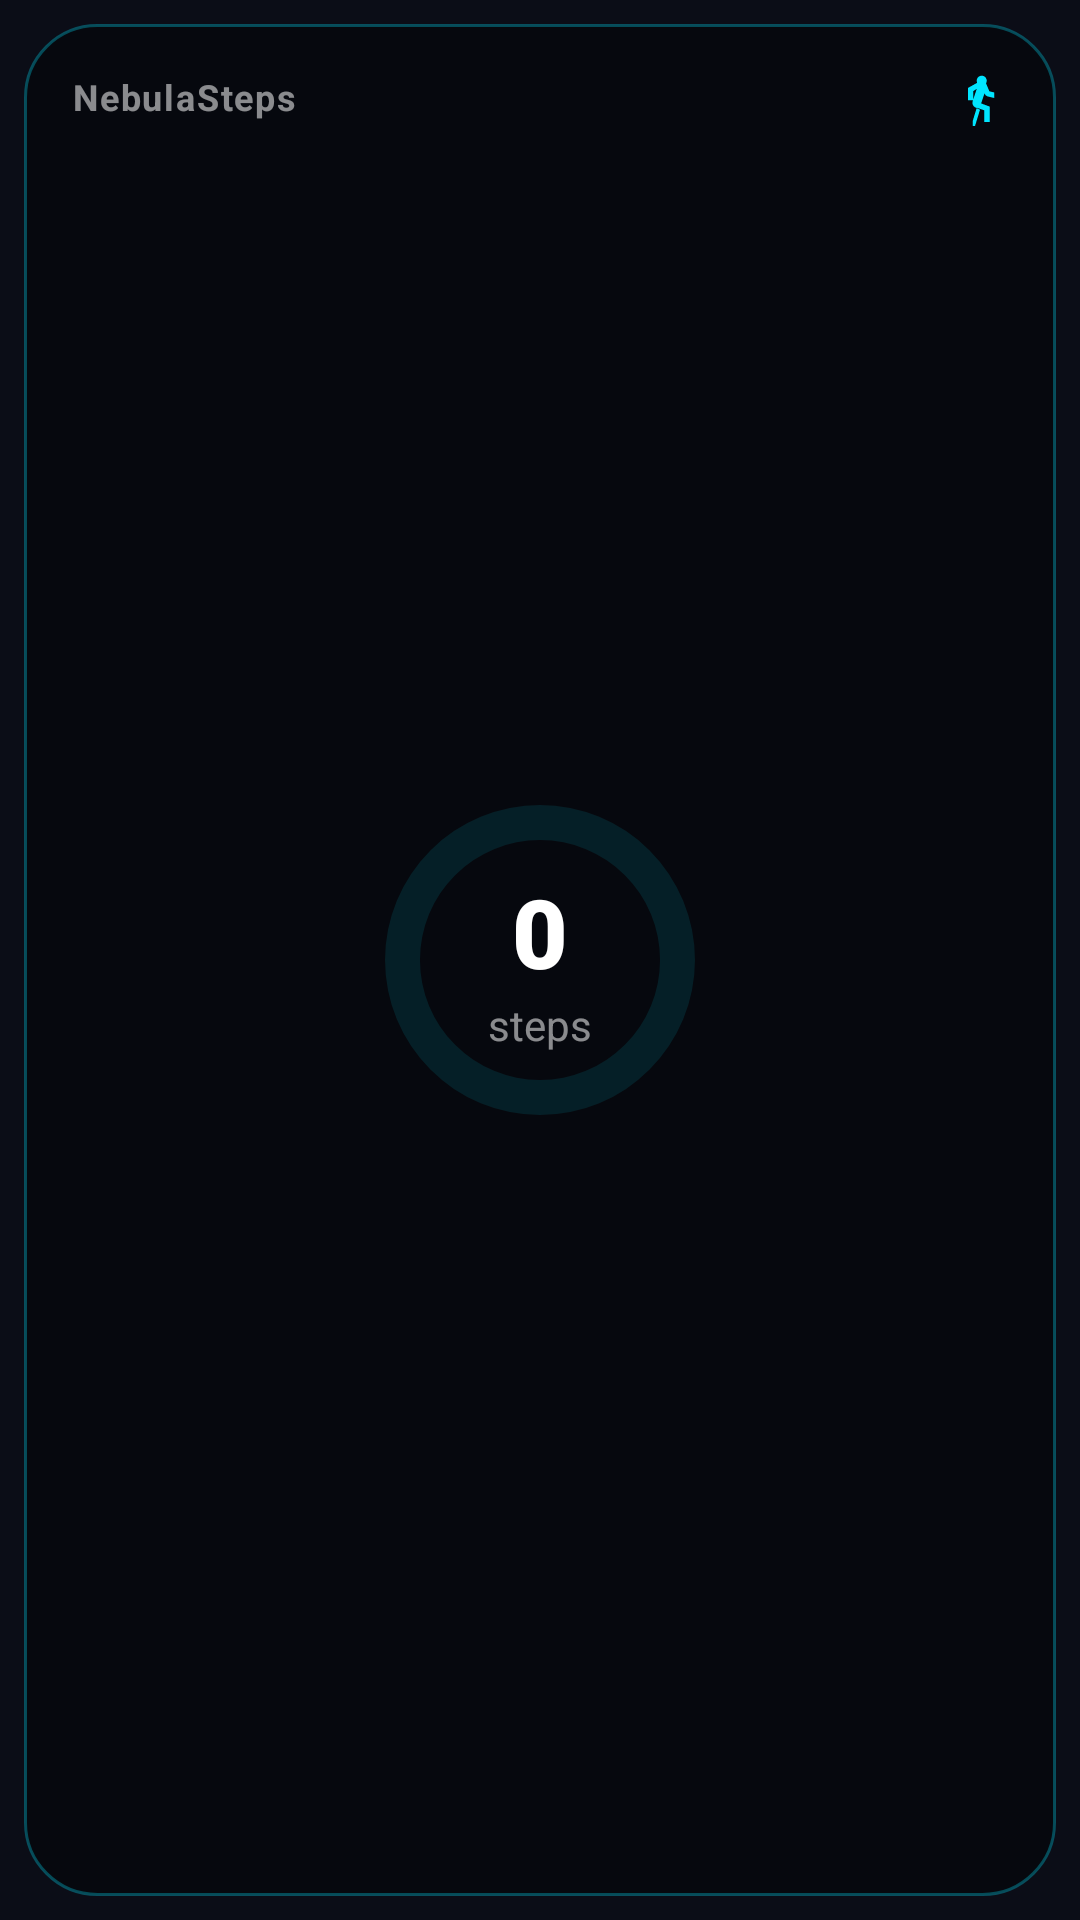

Icon click points for this 1080*1920 phone screenshot, format (x=x, y=y):
widget run: (x=981, y=100)
